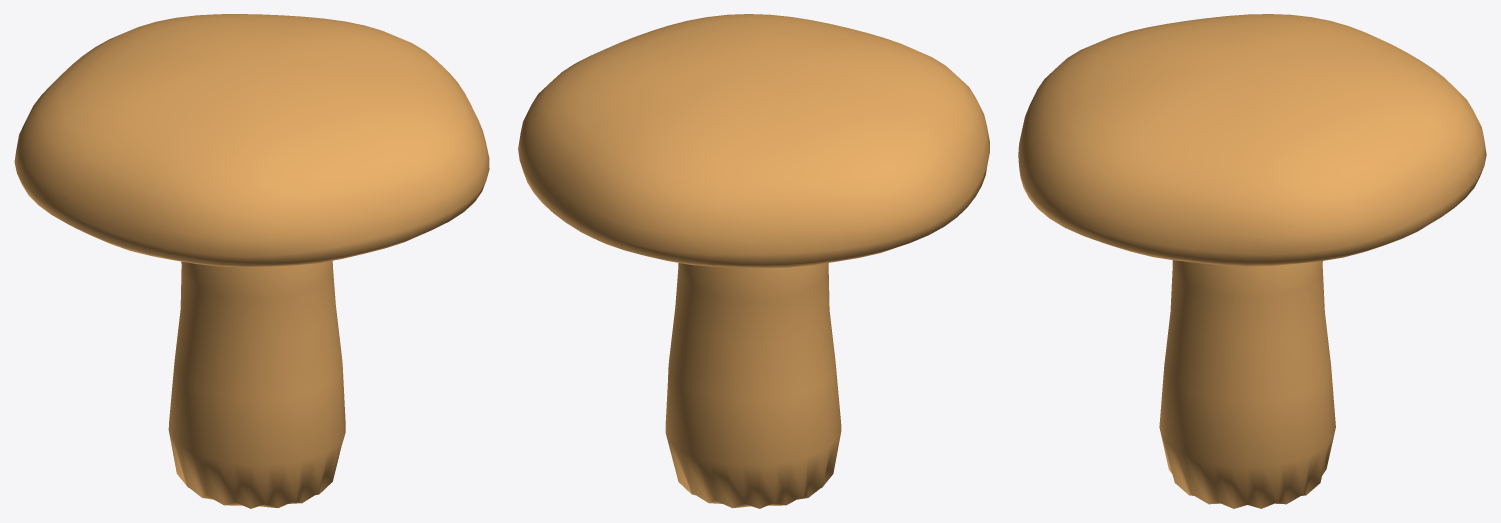
File: SM_Forest_MushroomCap_Step.fbx
3 renders of one model, left to right at view 1: azimuth 30°, elevation 25°; view 2: azimuth 150°, elevation 25°; view 3: azimuth 270°, elevation 25°, orthographic.
Parts seen in each view (by area): view 1: SM_Forest_MushroomCap_Step; view 2: SM_Forest_MushroomCap_Step; view 3: SM_Forest_MushroomCap_Step.
Boxes of the visible parts, x1,y1,x2,y2 form: SM_Forest_MushroomCap_Step: [14, 14, 489, 508]; SM_Forest_MushroomCap_Step: [518, 14, 989, 508]; SM_Forest_MushroomCap_Step: [1018, 14, 1486, 508].
Size of the model in its own units: 114 by 117 by 113.
